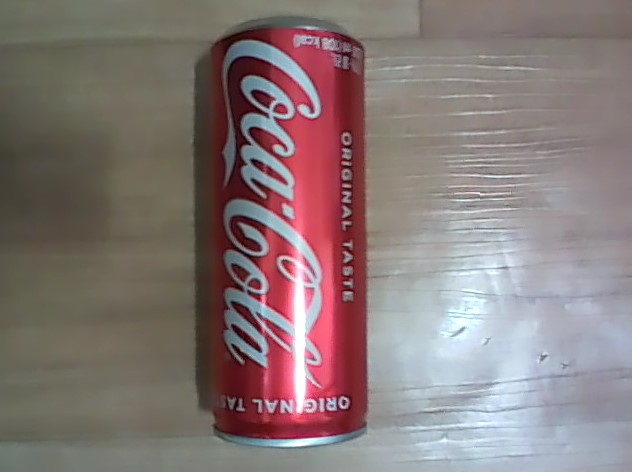Can: (196, 16, 380, 456)
